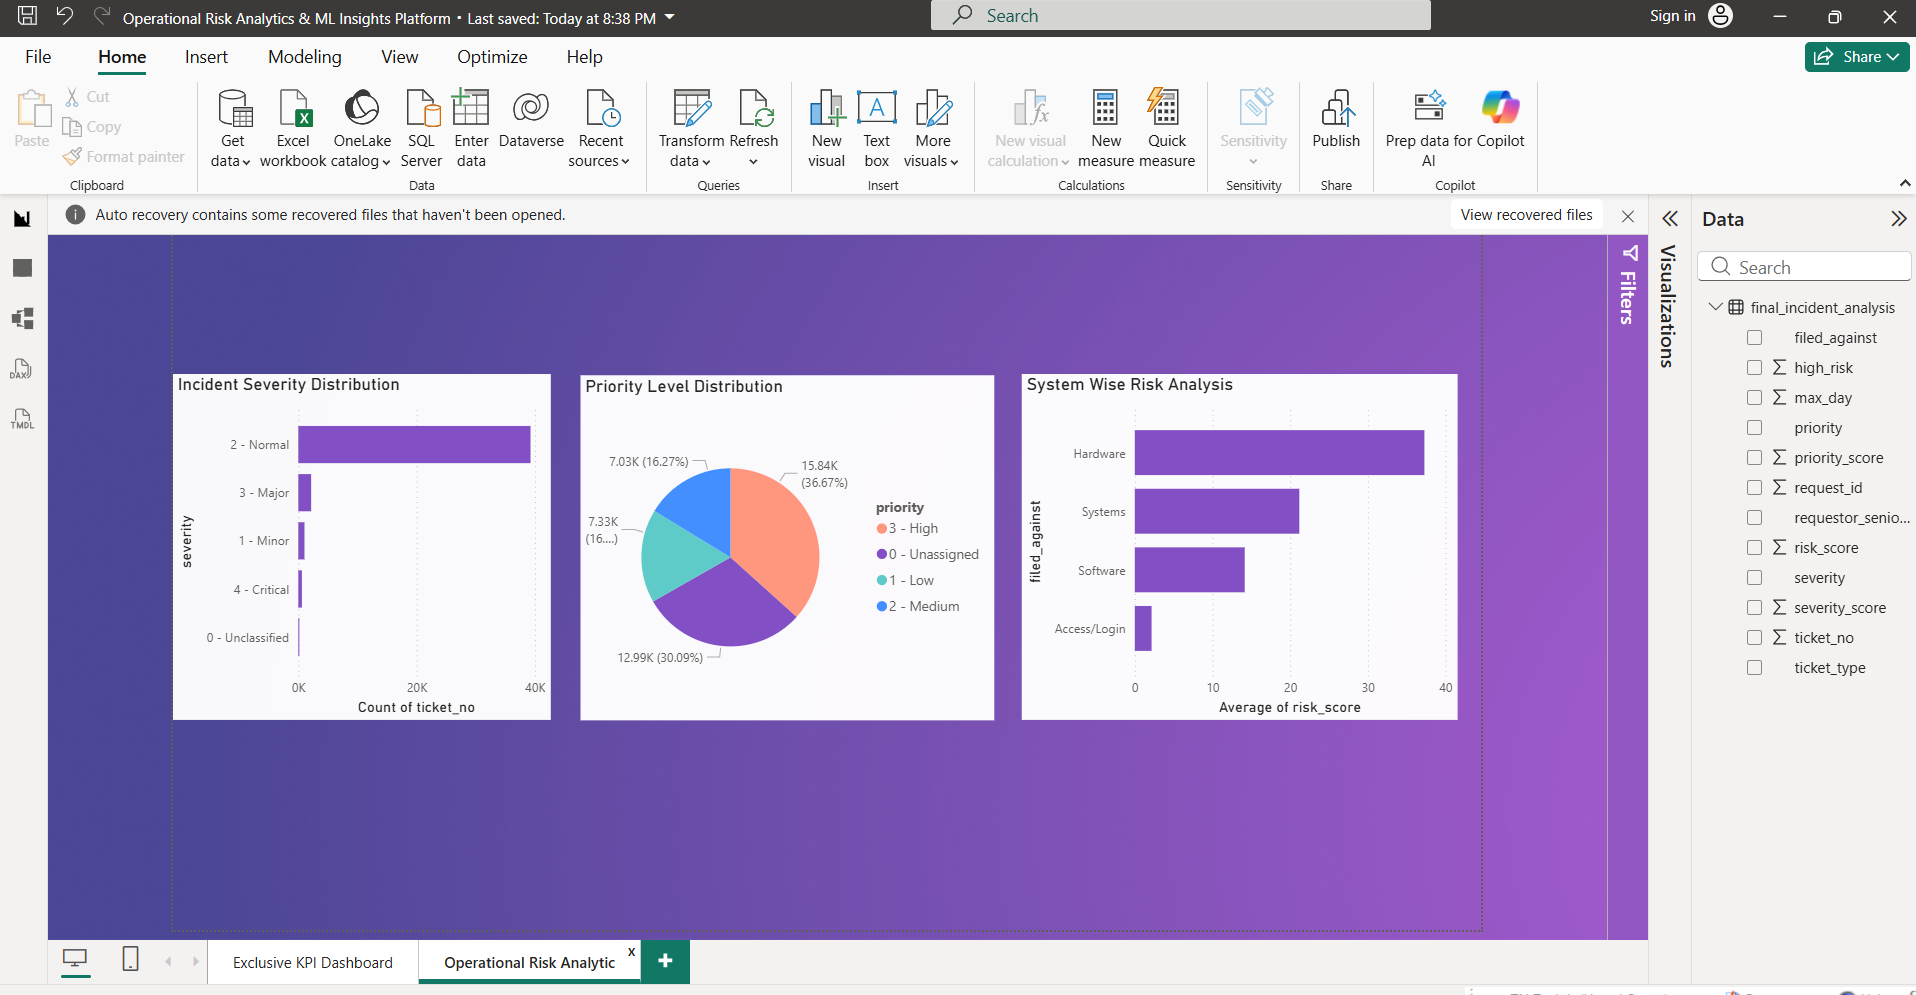

This screenshot's page, from the dashboard's own definition file:
{"tool":"powerbi","page":{"name":"Operational Risk Analytic","canvas":[1280,720],"ordinal":1},"visuals":[{"type":"clusteredBarChart","title":"Incident Severity Distribution","fields":{"Y":["CountNonNull(final_incident_analysis.ticket_no)"],"Category":["final_incident_analysis.severity"]},"box":[0,176.1,369.3,338.7],"z":0},{"type":"pieChart","title":"Priority Level Distribution","fields":{"Category":["final_incident_analysis.priority"],"Y":["CountNonNull(final_incident_analysis.ticket_no)"]},"box":[398.6,177.3,404.8,337.5],"z":1000},{"type":"clusteredBarChart","title":"System Wise Risk Analysis","fields":{"Category":["final_incident_analysis.filed_against"],"Y":["Avg(final_incident_analysis.risk_score)"]},"box":[830.3,176.1,426.8,338.7],"z":2000}]}

Visuals, with their boxes on the page's 1280x720 design canvas (x1, y1, x2, y2). These are canvas units, not pixel positions in the 1916x995 screenshot, which may show the page scaled, cropped or inside an application window:
"Incident Severity Distribution" clusteredBarChart: box(0, 176, 369, 515)
"Priority Level Distribution" pieChart: box(399, 177, 803, 515)
"System Wise Risk Analysis" clusteredBarChart: box(830, 176, 1257, 515)
